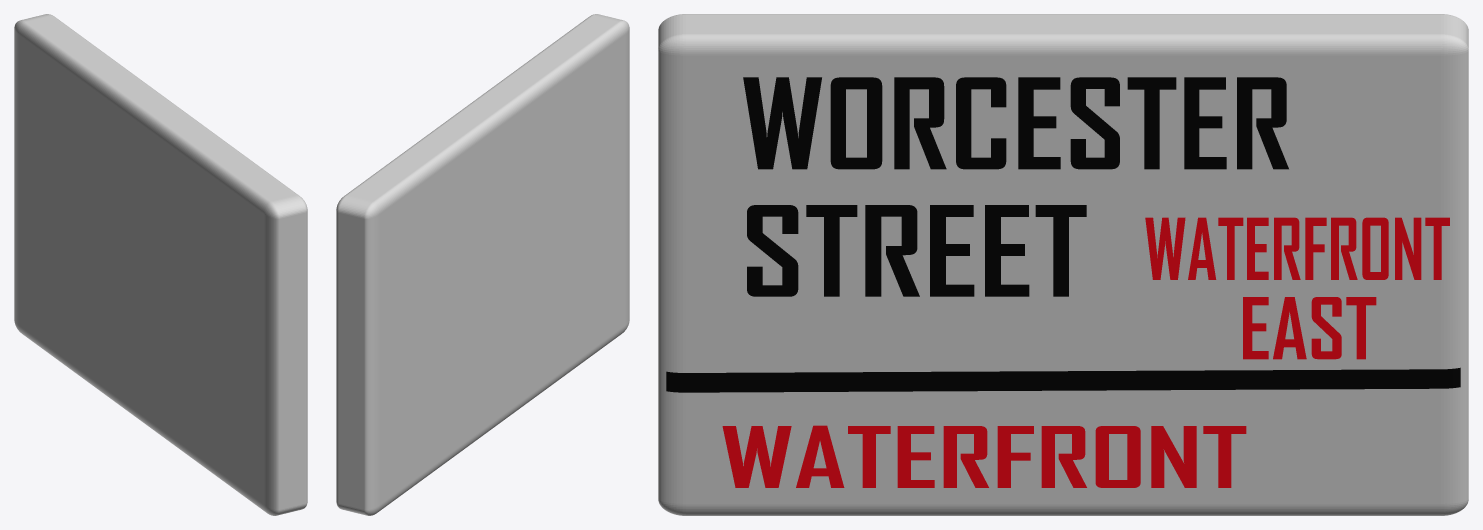
Rendered from uk_styled_street_sign_54.fbx.
3 renders of one model, left to right at view 1: azimuth 30°, elevation 25°; view 2: azimuth 150°, elevation 25°; view 3: azimuth 270°, elevation 25°, orthographic. The views are drawn at different scales.
Visible parts, largest first — view 1: Cube; view 2: Cube; view 3: Cube, Text, Text.002, Text.001, Text.003, Text.004.
Part boxes in pixels (x1,y1,x2,y2): Cube: (14,14,307,515); Cube: (336,14,629,515); Cube: (658,14,1468,515); Text: (743,77,1288,169); Text.002: (722,425,1246,487); Text.001: (747,205,1086,296); Text.003: (1145,217,1449,279); Text.004: (1243,297,1376,359).
Bounding box in the file's own units: 1.63 × 11.91 × 18.18.
